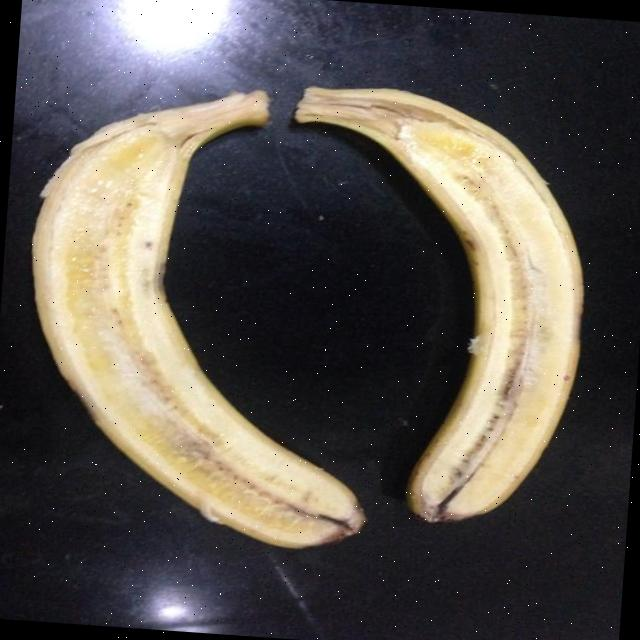banana-peel: (9, 71, 396, 555), (264, 78, 598, 532)
